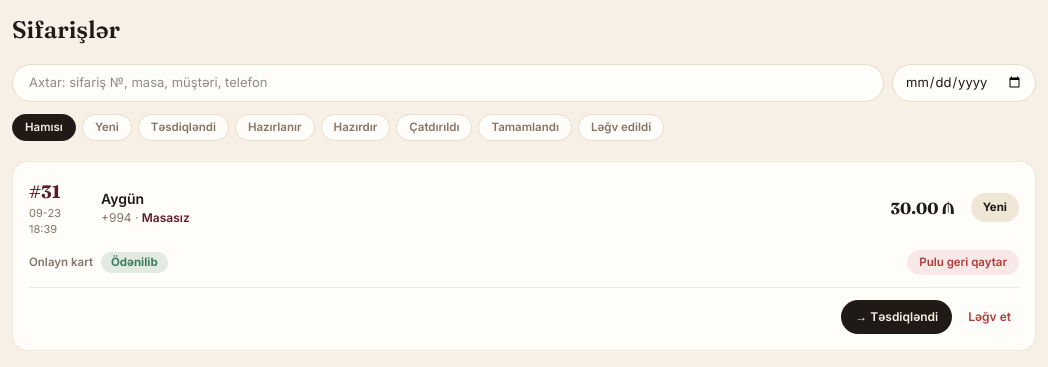
Test: OrdersAdmin: geri qaytarma › OWNER/MENECER ödənilmiş onlayn sifarişi təsdiqlə geri qaytarır → "Geri qaytarılıb"
Click the button "Pulu geri qaytar" at {"x": 963, "y": 262}, box [907,250,1019,275]
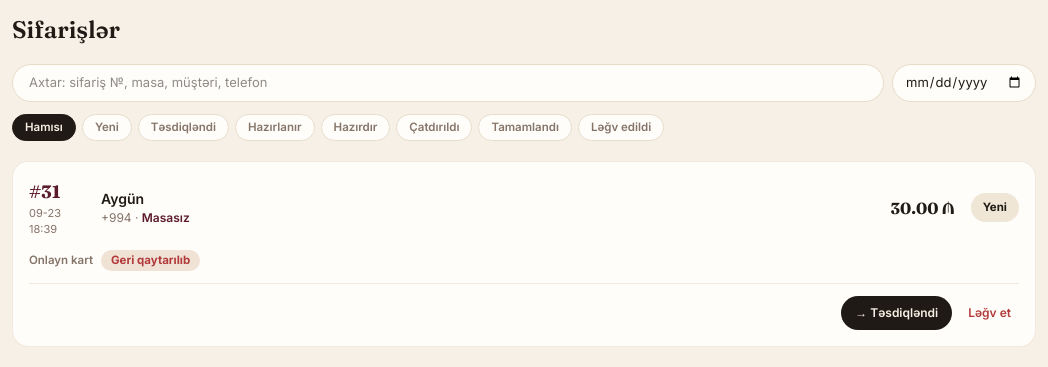
Now the element with test id "order-payment" shows "Geri qaytarılıb", box [111,253,190,267]
